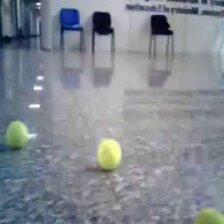tennis: (96, 139, 121, 168), (6, 120, 27, 148), (193, 207, 224, 224)
